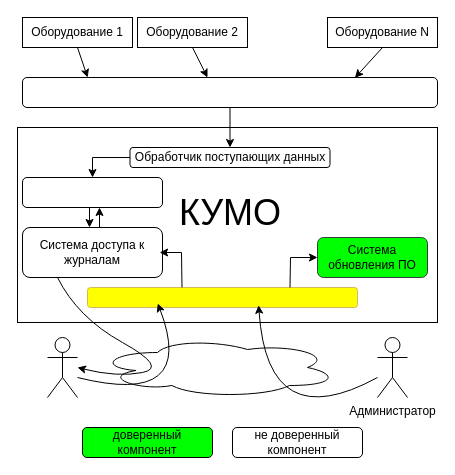
Some shapes in this 455 by 475 pixel diagram are drawn without their labels. Here are the shapes that lost their labels. From the top down, the centre of each, then its label:
At pixel 230 92: "внутренняя сеть предприятия".
At pixel 92 192: "Журнал событий".
At pixel 222 297: "Система аутентификации пользователей".
At pixel 62 367: "Пользователь".
At pixel 217 367: "internet".
